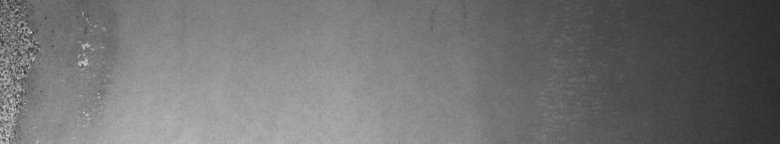hc: (4, 4, 115, 136)
